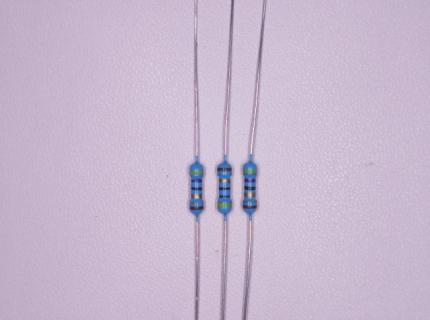Black band: (244, 185, 256, 191), (218, 187, 230, 192), (190, 187, 202, 191)
Brown band: (189, 205, 204, 211), (242, 204, 257, 209), (218, 168, 232, 172)
Gold band: (191, 194, 202, 200), (219, 178, 231, 183), (244, 193, 256, 198)
Violet band: (245, 178, 256, 183), (219, 195, 231, 199), (190, 179, 202, 183)
Yellow band: (242, 169, 258, 175), (217, 202, 231, 208), (189, 170, 204, 175)
